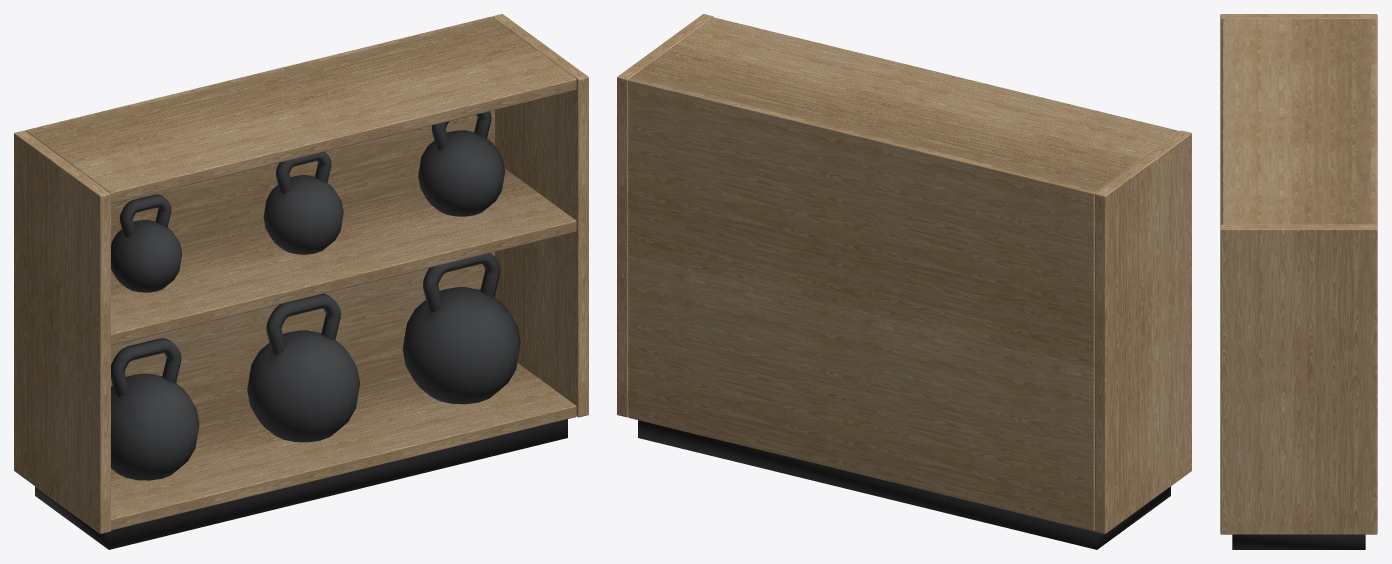
Rendered from guest_kettlebells.gltf.
3 views of the same model, side by side, from view 1: azimuth 30°, elevation 25°; view 2: azimuth 150°, elevation 25°; view 3: azimuth 270°, elevation 25° (orthographic). The views are drawn at different scales.
Parts seen in each view (by area): view 1: GuestKettlebells_Bells, GuestKettlebells_Shelf2, GuestKettlebells_End-1, GuestKettlebells_Back, GuestKettlebells_Shelf1, GuestKettlebells_Shelf0, GuestKettlebells_End1, GuestKettlebells_Plinth, GuestKettlebells_DetailPiping_Steel_Graphite; view 2: GuestKettlebells_Back, GuestKettlebells_Shelf2, GuestKettlebells_End-1, GuestKettlebells_Plinth, GuestKettlebells_End1; view 3: GuestKettlebells_End1, GuestKettlebells_Shelf2, GuestKettlebells_Plinth, GuestKettlebells_Back, GuestKettlebells_End-1.
Part boxes in pixels (bbox=[...]): GuestKettlebells_Bells: bbox=[111, 130, 520, 480]; GuestKettlebells_Shelf2: bbox=[29, 19, 576, 203]; GuestKettlebells_End-1: bbox=[14, 130, 110, 533]; GuestKettlebells_Back: bbox=[25, 16, 494, 418]; GuestKettlebells_Shelf1: bbox=[111, 168, 576, 345]; GuestKettlebells_Shelf0: bbox=[111, 363, 576, 530]; GuestKettlebells_End1: bbox=[492, 14, 588, 417]; GuestKettlebells_Plinth: bbox=[35, 419, 567, 549]; GuestKettlebells_DetailPiping_Steel_Graphite: bbox=[111, 111, 500, 396]; GuestKettlebells_Back: bbox=[628, 77, 1097, 531]; GuestKettlebells_Shelf2: bbox=[632, 17, 1179, 190]; GuestKettlebells_End-1: bbox=[1095, 130, 1191, 533]; GuestKettlebells_Plinth: bbox=[638, 420, 1170, 549]; GuestKettlebells_End1: bbox=[617, 14, 713, 417]; GuestKettlebells_End1: bbox=[1220, 224, 1377, 534]; GuestKettlebells_Shelf2: bbox=[1222, 19, 1370, 224]; GuestKettlebells_Plinth: bbox=[1232, 534, 1365, 549]; GuestKettlebells_Back: bbox=[1370, 19, 1377, 225]; GuestKettlebells_End-1: bbox=[1220, 14, 1377, 225].
Size of the model in its own units: 1.3 by 0.92 by 0.4.
Materials: 3 (1 with a texture image).
